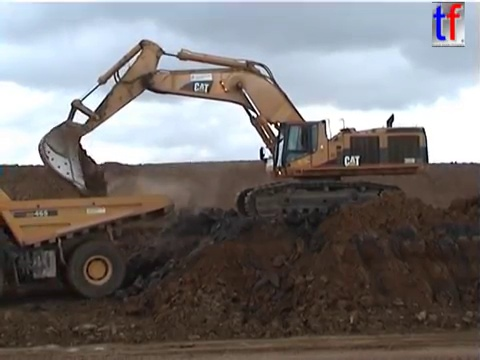excavator: (35, 36, 432, 225)
truck: (1, 186, 175, 299)
